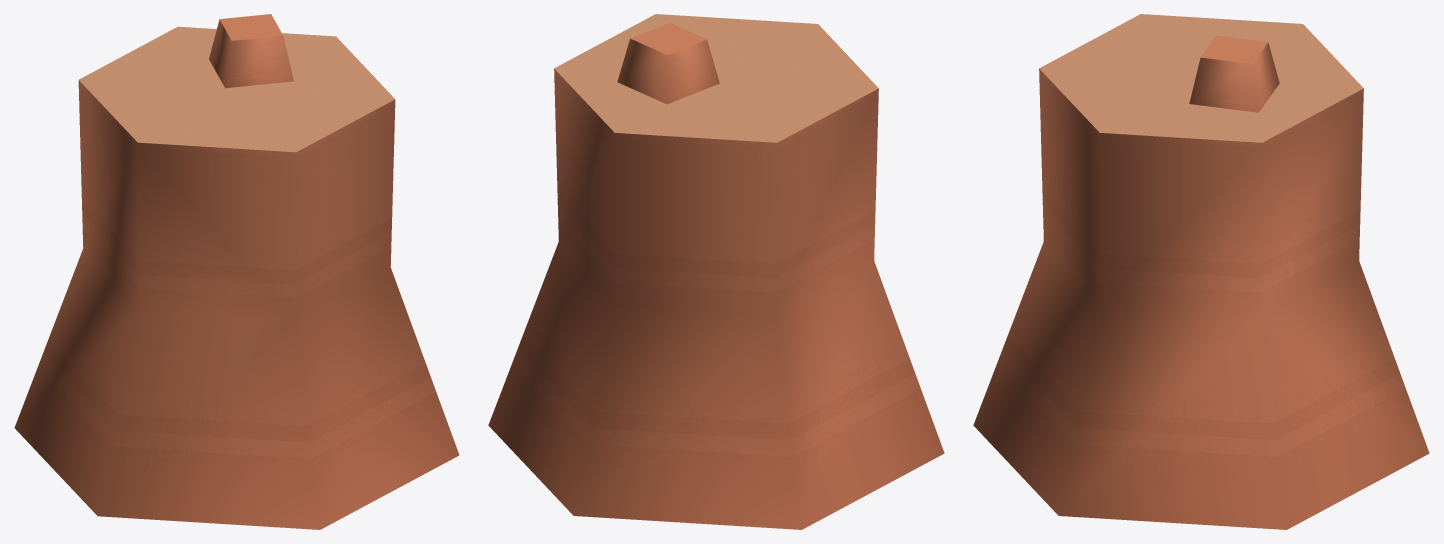
Rendered from rocks-sand-c.010.glb.
3 renders of one model, left to right at view 1: azimuth 30°, elevation 25°; view 2: azimuth 150°, elevation 25°; view 3: azimuth 270°, elevation 25°, orthographic. The views are drawn at different scales.
Visible parts, largest first — view 1: rocks-sand-c.010; view 2: rocks-sand-c.010; view 3: rocks-sand-c.010.
Part boxes in pixels (box(x1,y1,x2,y2)): rocks-sand-c.010: box(14, 14, 459, 529); rocks-sand-c.010: box(488, 14, 944, 529); rocks-sand-c.010: box(973, 14, 1429, 529).
Size of the model in its own units: 0.5461 by 0.5696 by 0.5817.
Materials: 1 (1 with a texture image).
